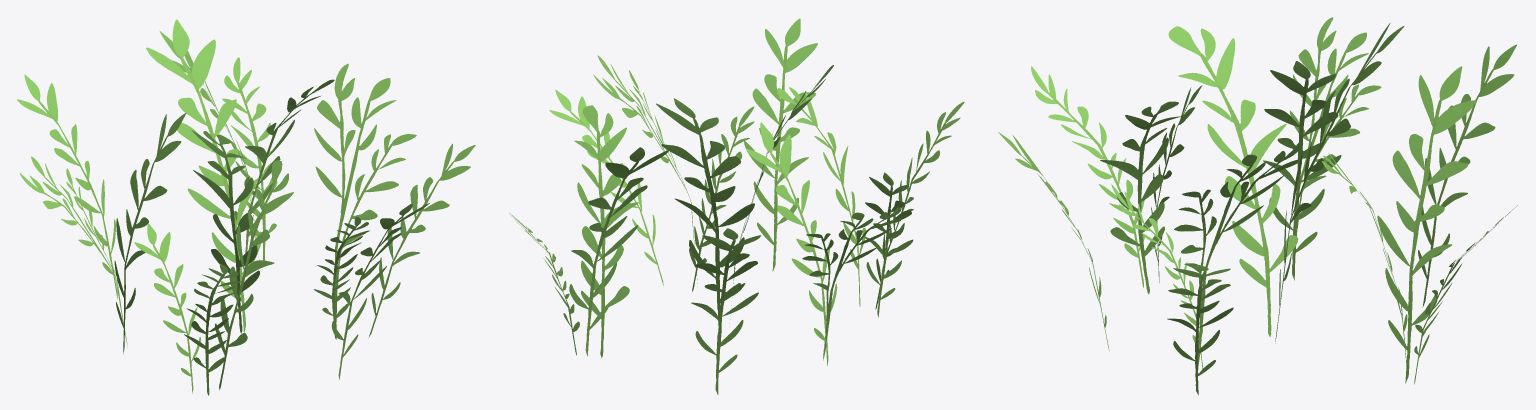
File: Plant.fbx
3 views of the same model, side by side, from view 1: azimuth 30°, elevation 25°; view 2: azimuth 150°, elevation 25°; view 3: azimuth 270°, elevation 25° (orthographic). The views are drawn at different scales.
Parts seen in each view (by area): view 1: Plant; view 2: Plant; view 3: Plant.
Boxes of the visible parts, <box> form: Plant: <box>17,19,475,395</box>; Plant: <box>509,18,964,394</box>; Plant: <box>998,17,1517,395</box>.
Size of the model in its own units: 90.96 by 60.78 by 91.03.
